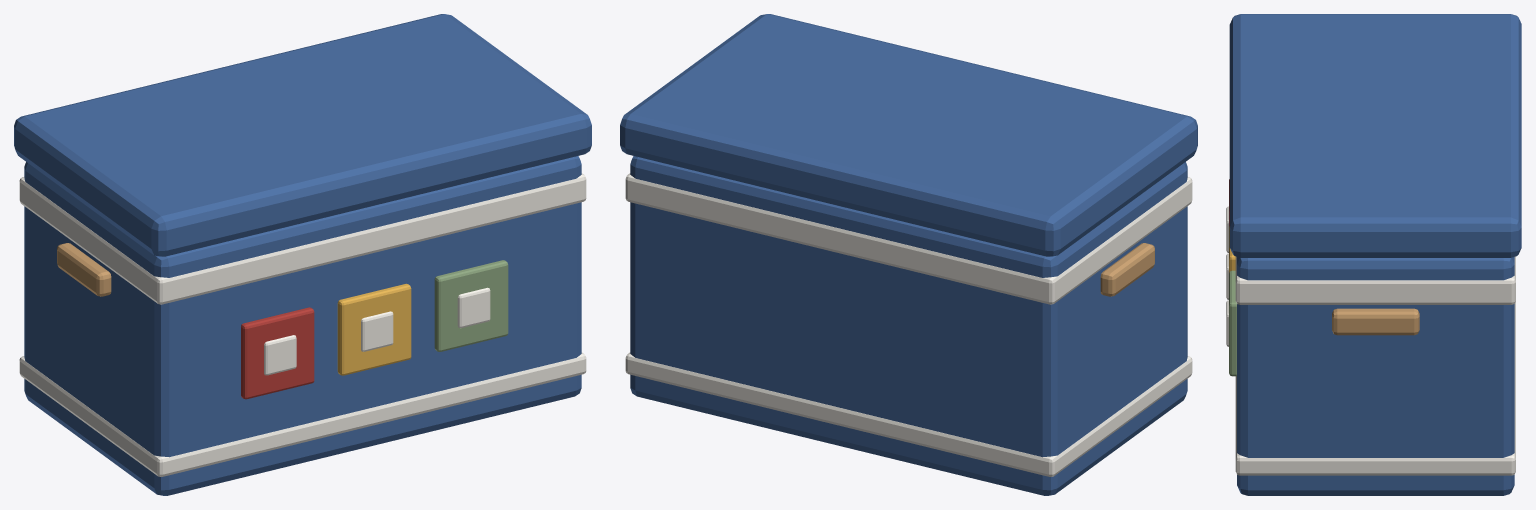
Rendered from hh_cat_toy_box.glb.
3 views of the same model, side by side, from view 1: azimuth 30°, elevation 25°; view 2: azimuth 150°, elevation 25°; view 3: azimuth 270°, elevation 25° (orthographic).
Visible parts, largest first — view 1: chest, lid, band, band.001, block_letter.001, block_letter.002, block_letter, rope_handle, block_letter_mark.002, block_letter_mark, block_letter_mark.001; view 2: chest, lid, band, band.001, rope_handle; view 3: lid, chest, band, band.001, rope_handle.001, block_letter.002.
Part boxes in pixels (bbox=[...]): chest: bbox=[24, 156, 581, 495]; lid: bbox=[14, 14, 591, 256]; band: bbox=[19, 173, 586, 304]; band.001: bbox=[19, 352, 586, 476]; block_letter.001: bbox=[337, 283, 411, 375]; block_letter.002: bbox=[434, 260, 508, 351]; block_letter: bbox=[241, 307, 314, 399]; rope_handle: bbox=[57, 243, 111, 296]; block_letter_mark.002: bbox=[457, 287, 490, 328]; block_letter_mark: bbox=[264, 335, 296, 375]; block_letter_mark.001: bbox=[361, 311, 393, 351]; chest: bbox=[630, 156, 1187, 495]; lid: bbox=[620, 14, 1197, 256]; band: bbox=[625, 173, 1192, 304]; band.001: bbox=[625, 352, 1192, 476]; rope_handle: bbox=[1100, 243, 1154, 296]; lid: bbox=[1229, 14, 1521, 257]; chest: bbox=[1237, 257, 1514, 495]; band: bbox=[1235, 256, 1515, 304]; band.001: bbox=[1235, 301, 1515, 475]; rope_handle.001: bbox=[1332, 308, 1419, 335]; block_letter.002: bbox=[1229, 270, 1236, 376].
Size of the model in its own units: 0.7 by 0.42 by 0.4.
